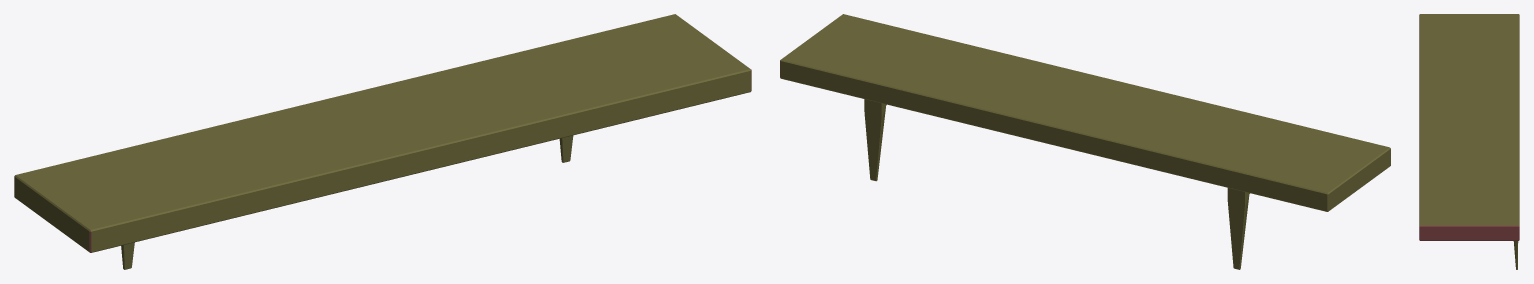
Rendered from FBX_Repisa_03.fbx.
The picture shows the model from 3 angles, left to right: view 1: azimuth 30°, elevation 25°; view 2: azimuth 150°, elevation 25°; view 3: azimuth 270°, elevation 25°; orthographic projection. The views are drawn at different scales.
Visible parts, largest first — view 1: polySurface63; view 2: polySurface63; view 3: polySurface63.
Part boxes in pixels (x1,y1,x2,y2): polySurface63: [14, 14, 751, 269]; polySurface63: [780, 14, 1390, 269]; polySurface63: [1419, 14, 1519, 269].
Size of the model in its own units: 1.5 by 0.2594 by 0.3.
